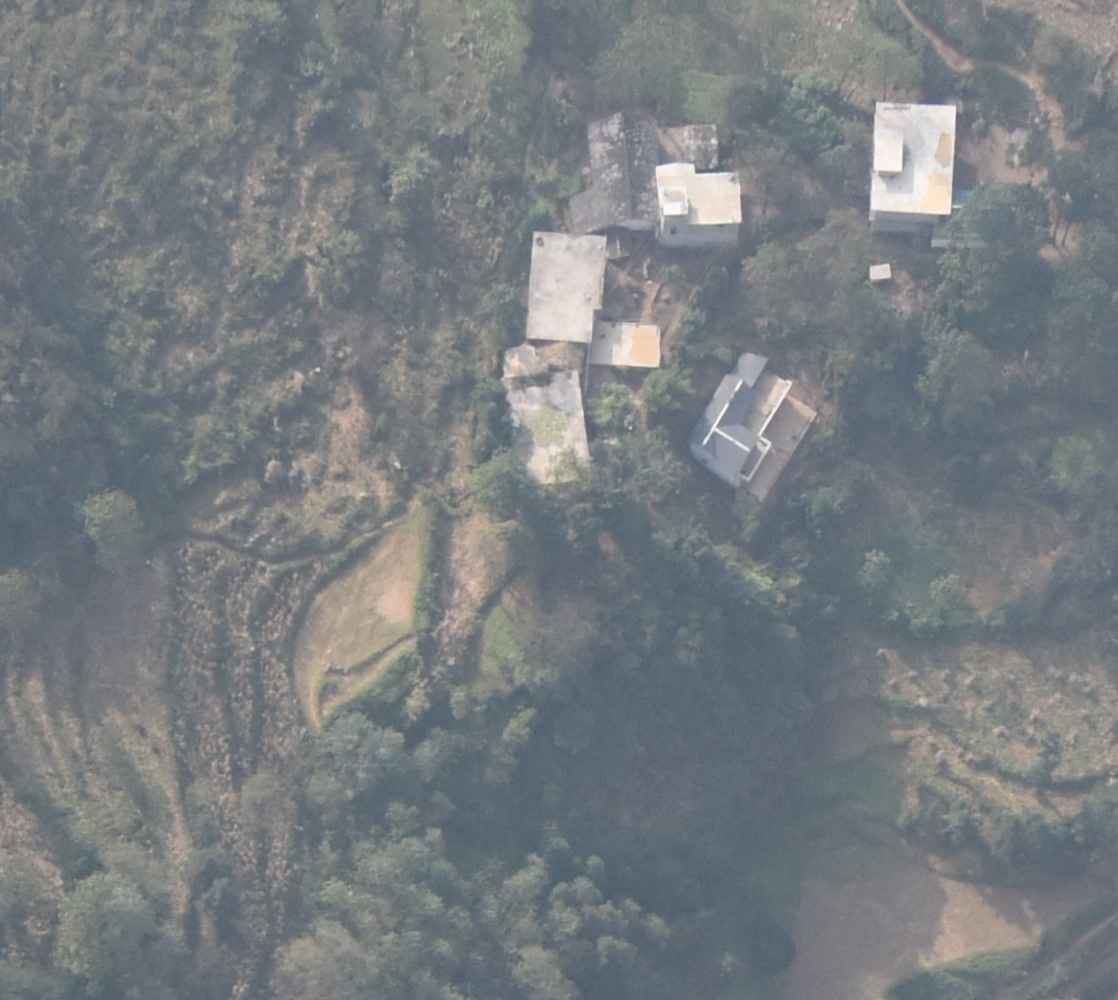building: (688, 352, 818, 500), (566, 112, 659, 236), (497, 371, 594, 487), (868, 100, 952, 229), (524, 232, 605, 343), (656, 162, 743, 245), (587, 320, 662, 368), (658, 123, 718, 171), (869, 263, 890, 282)
